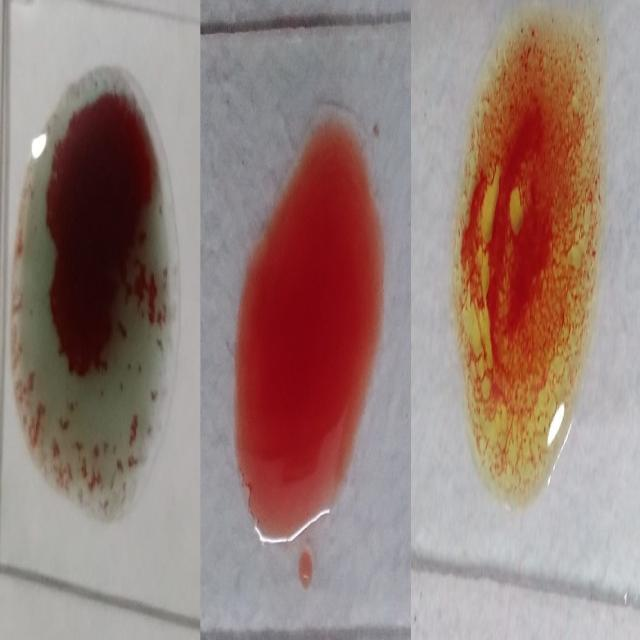A: (13, 75, 178, 520)
B: (456, 9, 601, 511)
